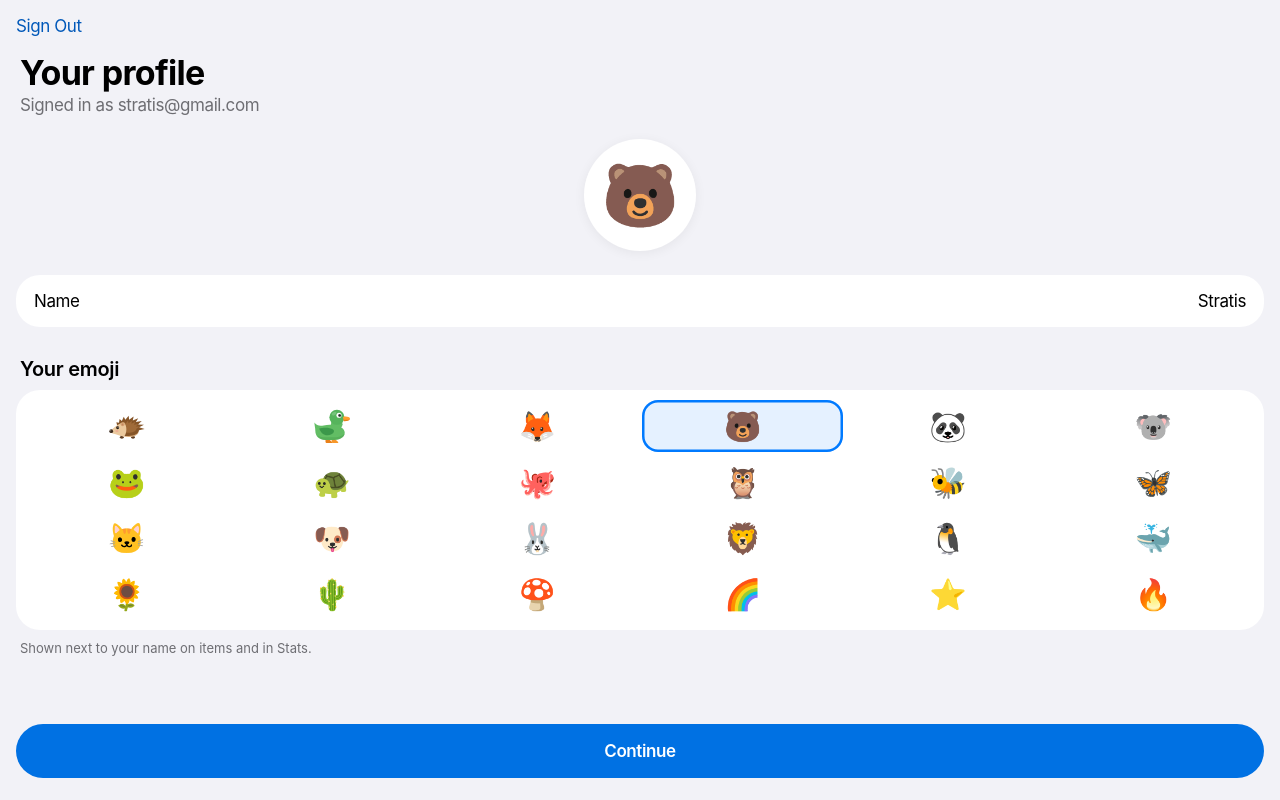
Scenario: Join: "Are you one of these people?" › the name typed on Your profile picks them already; "Someone new" joins as the profile
Later steps or results of the test are not shown.
expect the heading "Your profile" is shown: met, box [20,52,205,93]
Replace the text in the field labelled "Name" with "ela" at (669, 301), box [92,275,1246,327]
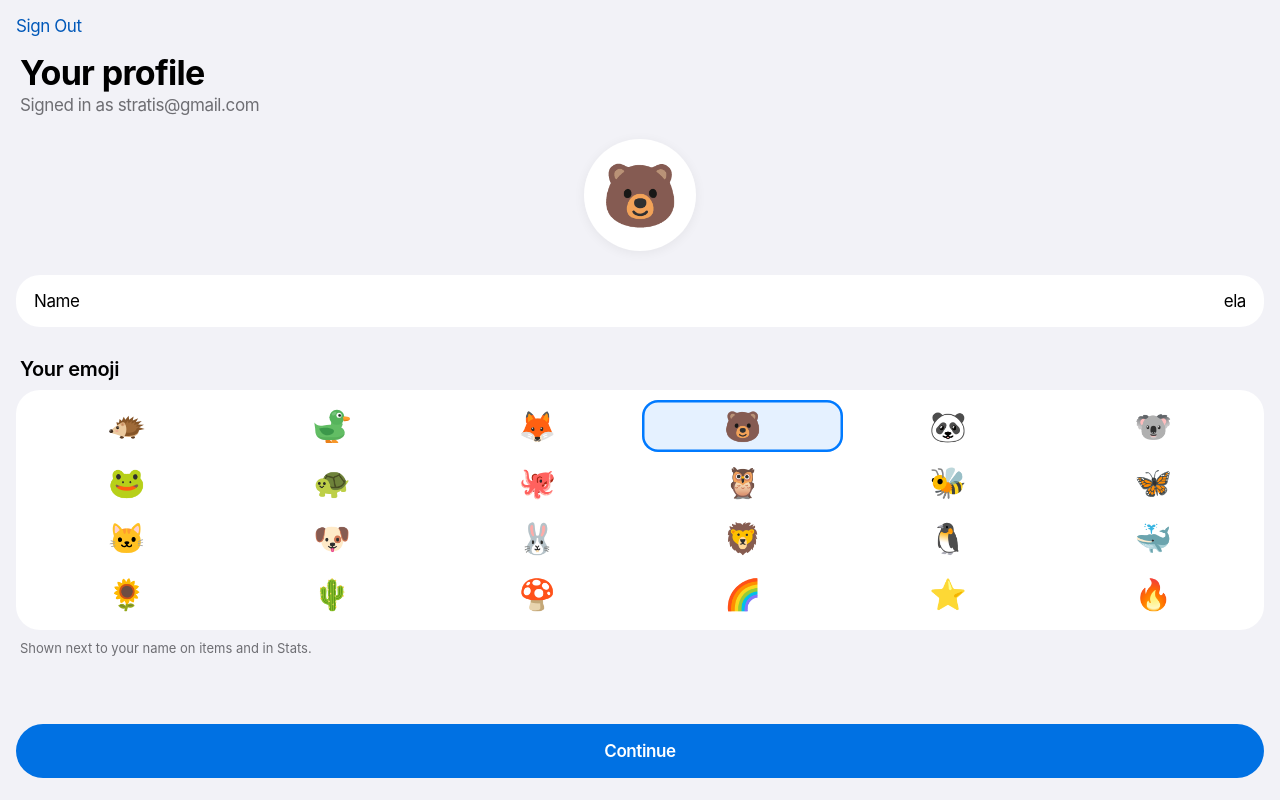
Click the button "Continue" at (640, 751), box [16,724,1264,778]
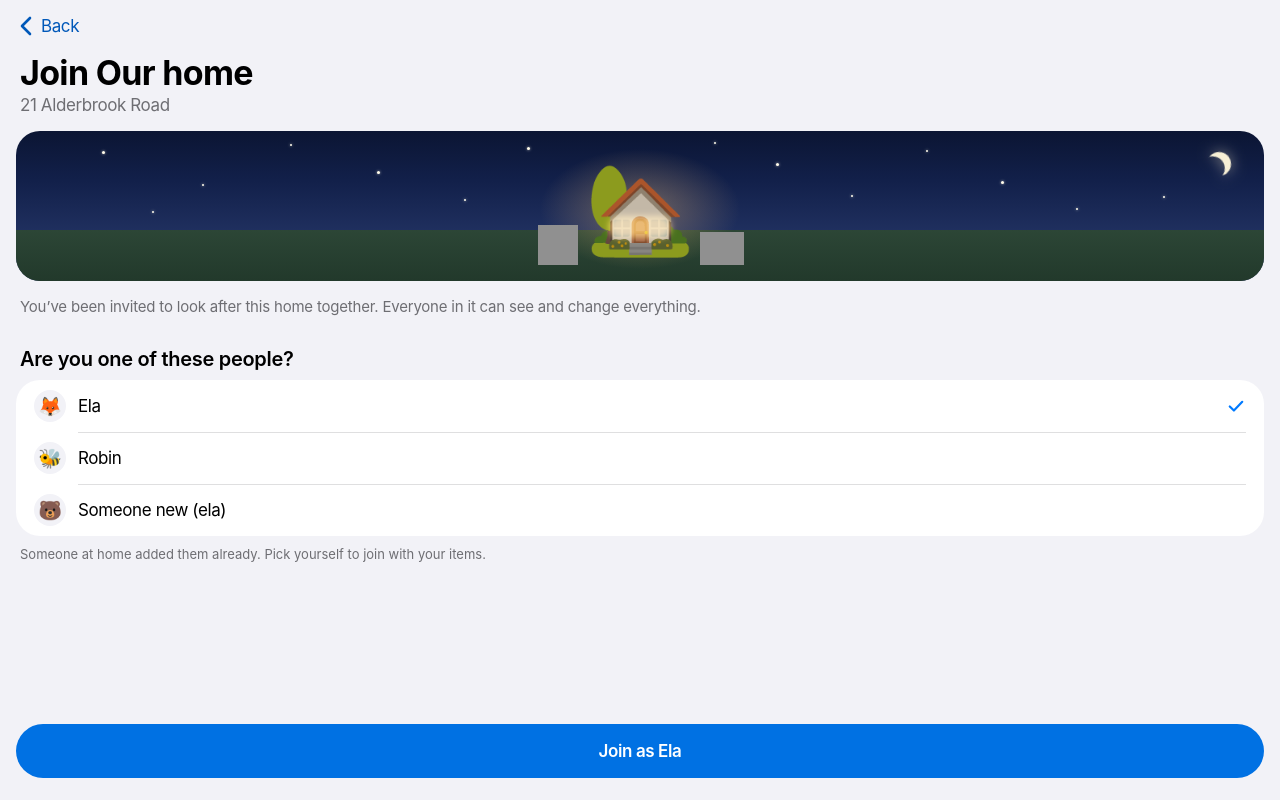
expect the heading "Join Our home" is shown: met, box [20,52,253,93]
